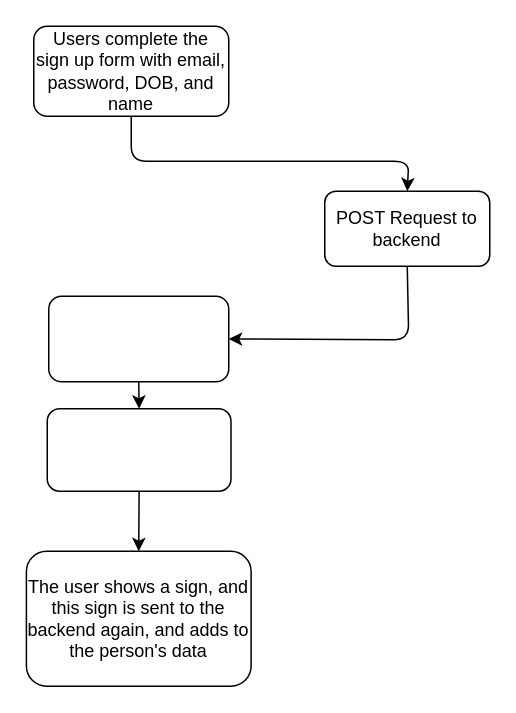
Image size: 516x713. Some labels were removed from this diagram. Here are the shapes that lost their labels. From the top down, the centre of each, then its label:
At point (138, 338): "New user is created in Person database".
At point (138, 449): "User is sent to next screen with camera".
